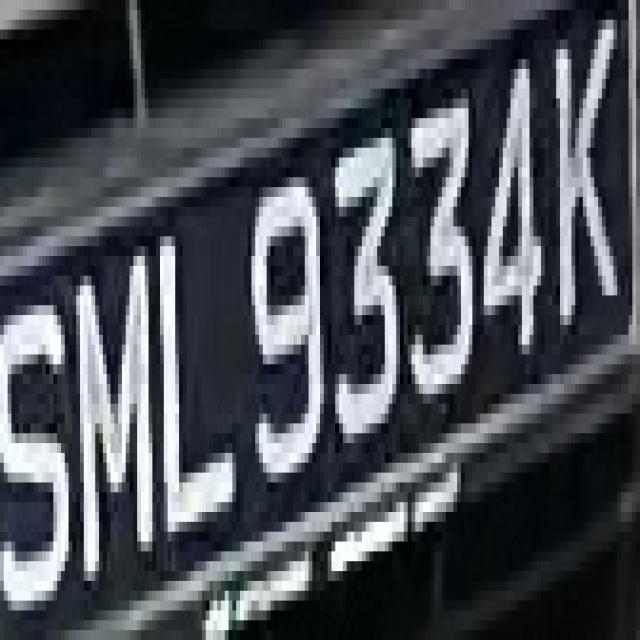3: (320, 108, 408, 453), (388, 89, 472, 443)
4: (461, 29, 552, 364)
9: (236, 168, 328, 502)
K: (548, 10, 628, 354)
L: (156, 177, 240, 561)
M: (72, 226, 160, 581)
S: (4, 256, 72, 640)
